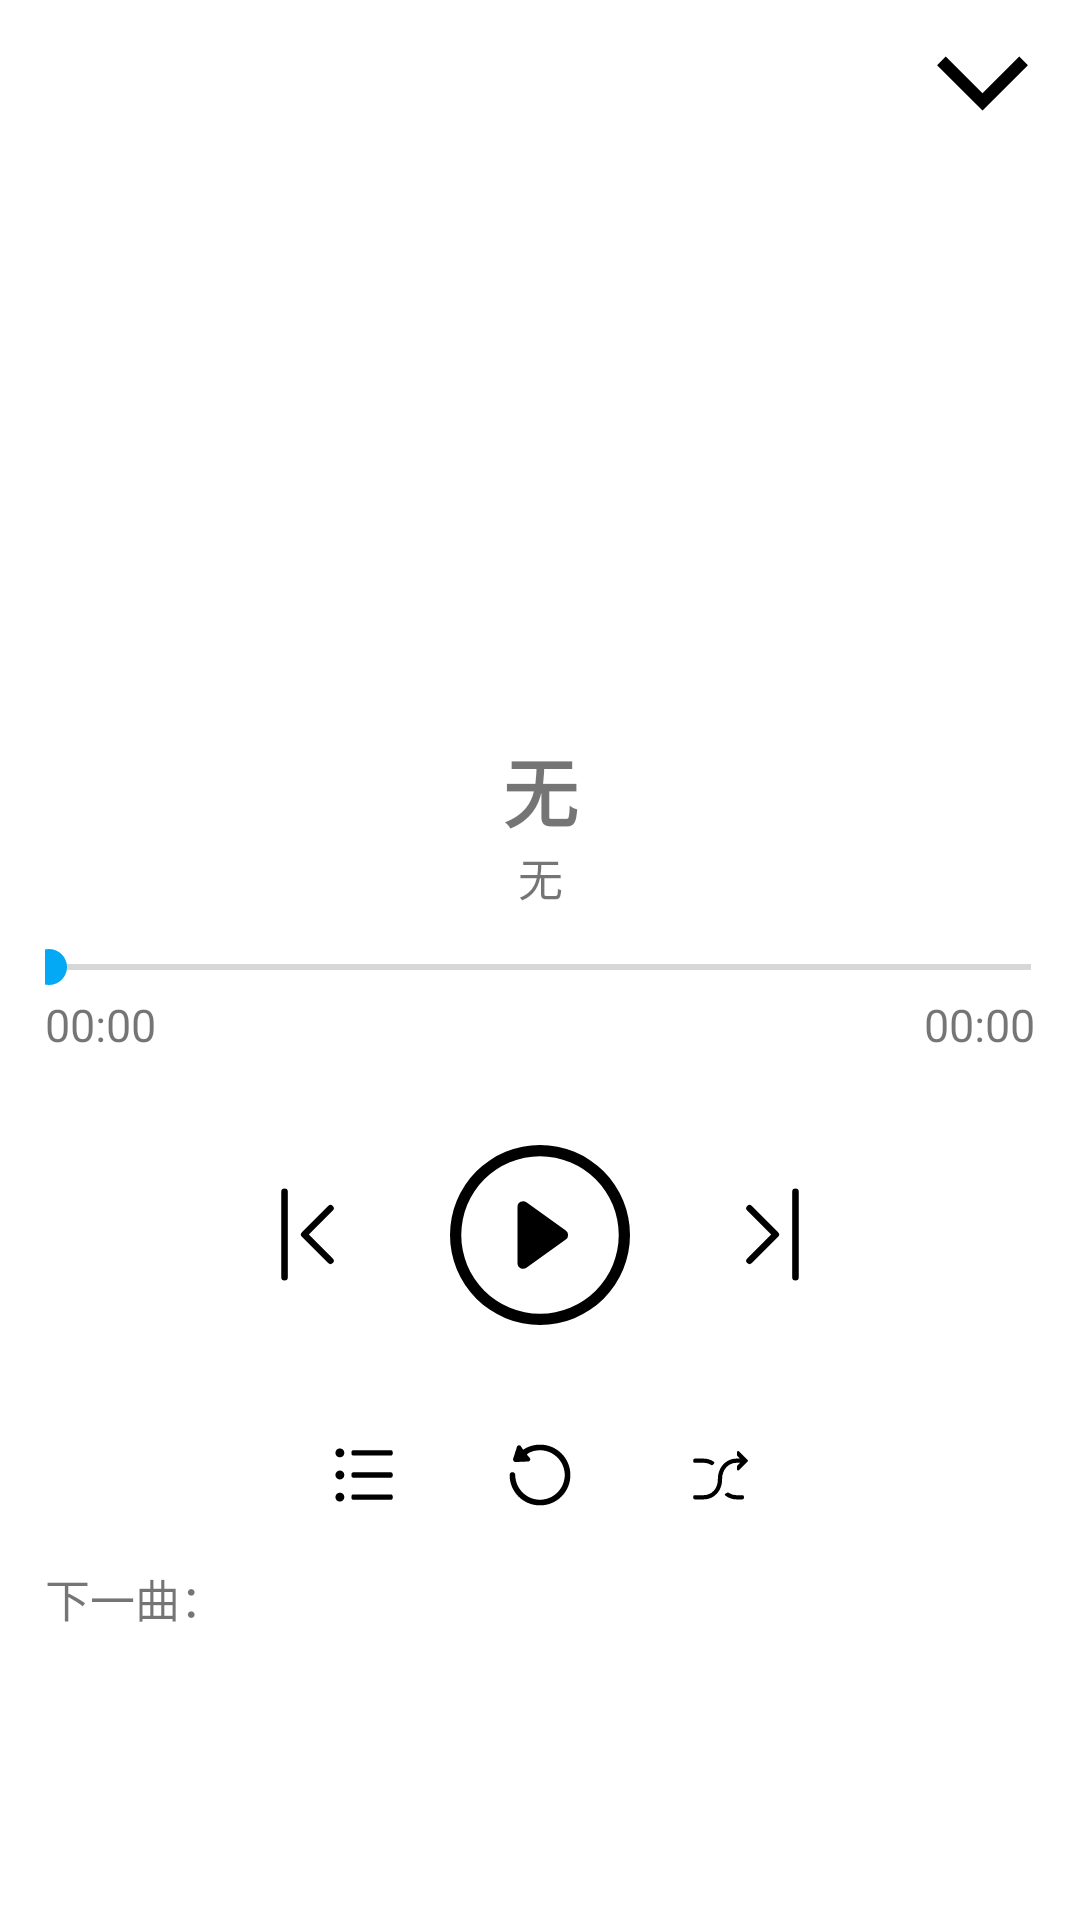

Named icons in this screenshot (1080x1920) and their centers, (x,y):
down: (982,83)
next: (772,1234)
play: (540,1235)
play mode linear: (364,1475)
play mode random: (720,1475)
play mode single: (540,1475)
previous: (307,1234)
